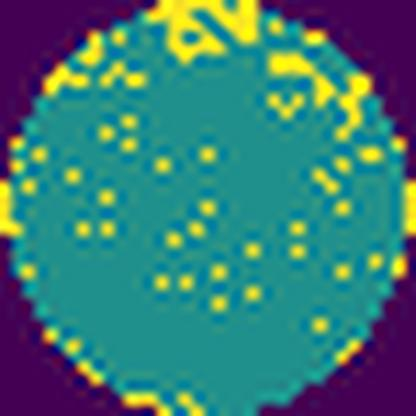Edge-Loc: (272, 40, 370, 148), (144, 0, 264, 66)
